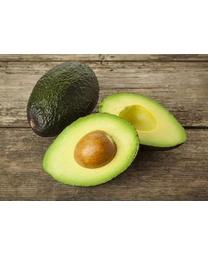avocado: (43, 113, 139, 188), (26, 59, 99, 138), (100, 92, 187, 151)
